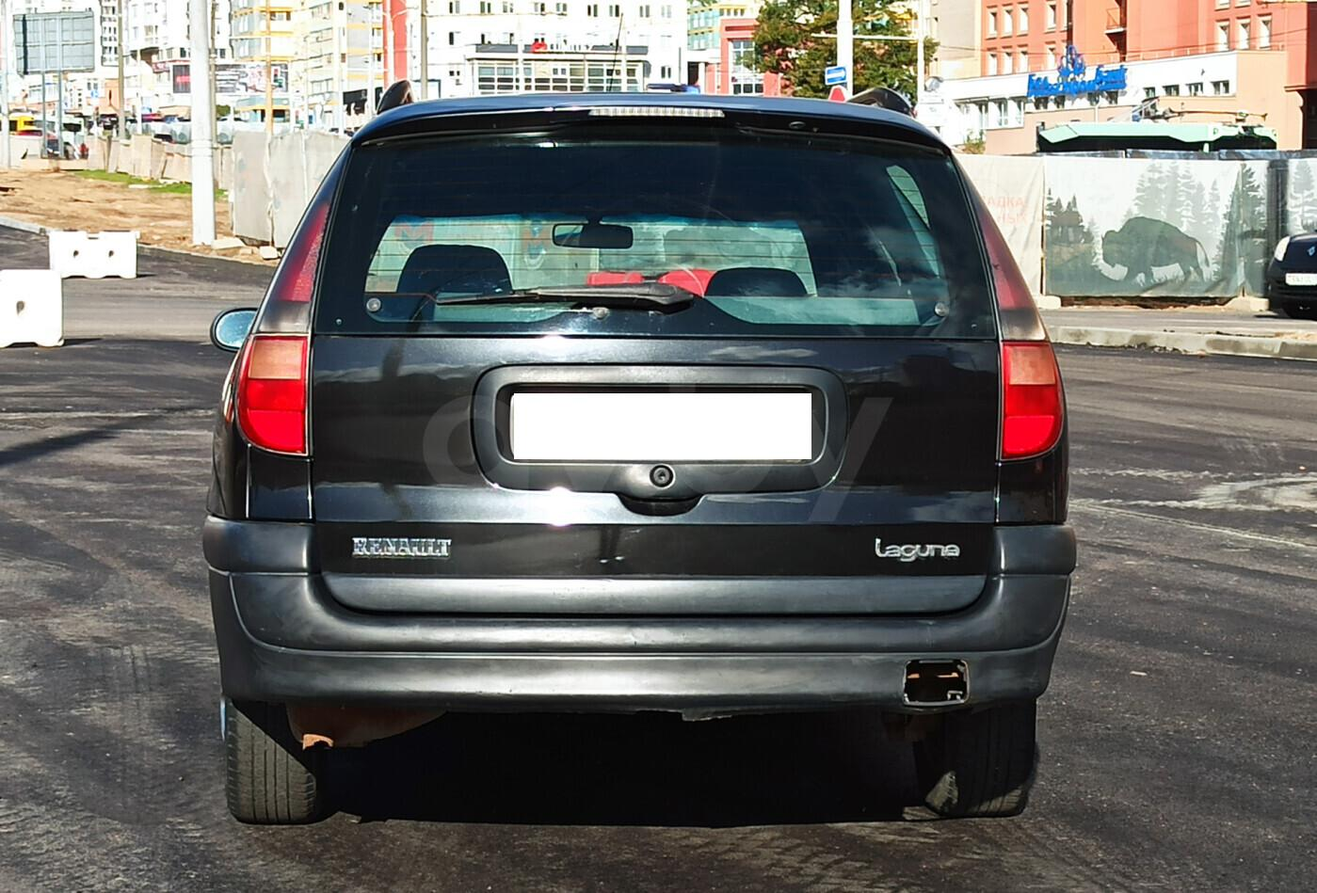Lahuna_1993-1999: (198, 85, 1080, 842)
